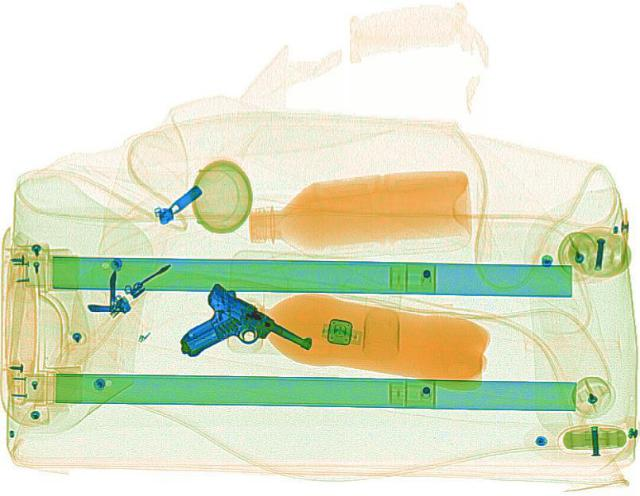Gun: (171, 278, 329, 379)
